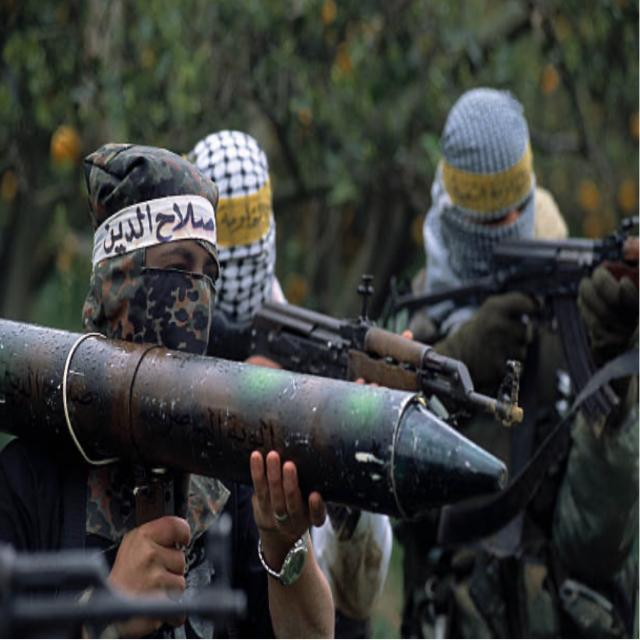bazooka: (6, 312, 517, 530)
